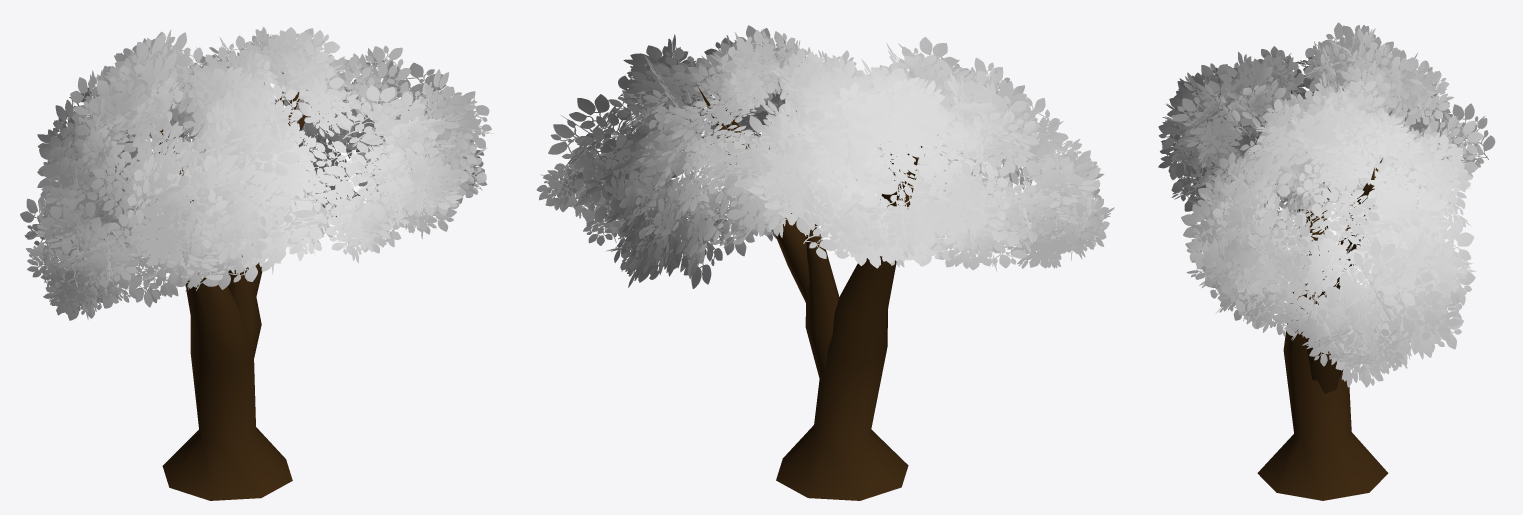
Rendered from Tree5.fbx.
The picture shows the model from 3 angles, left to right: view 1: azimuth 30°, elevation 25°; view 2: azimuth 150°, elevation 25°; view 3: azimuth 270°, elevation 25°; orthographic projection. The views are drawn at different scales.
Visible parts, largest first — view 1: Leaves5.1_LOD_0, Leaves5.0_LOD_0, Trunk5_LOD_0; view 2: Leaves5.1_LOD_0, Leaves5.0_LOD_0, Trunk5_LOD_0; view 3: Leaves5.0_LOD_0, Leaves5.1_LOD_0, Trunk5_LOD_0.
Boxes of the visible parts, x1,y1,x2,y2 form: Leaves5.1_LOD_0: [20, 29, 322, 320]; Leaves5.0_LOD_0: [166, 27, 493, 263]; Trunk5_LOD_0: [158, 72, 311, 500]; Leaves5.1_LOD_0: [746, 37, 1114, 271]; Leaves5.0_LOD_0: [536, 25, 883, 288]; Trunk5_LOD_0: [698, 87, 922, 500]; Leaves5.0_LOD_0: [1181, 80, 1476, 387]; Leaves5.1_LOD_0: [1158, 22, 1495, 216]; Trunk5_LOD_0: [1257, 81, 1388, 500].
Size of what is drawn, in the model's own units: 1274 by 1054 by 794.
